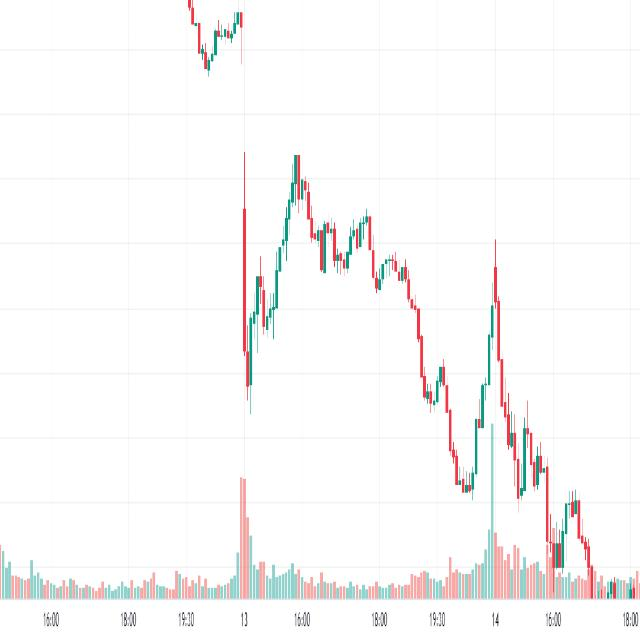Falling-Wedge: (252, 96, 470, 324)
Head-Shoulders: (433, 230, 553, 546), (246, 138, 347, 419)
